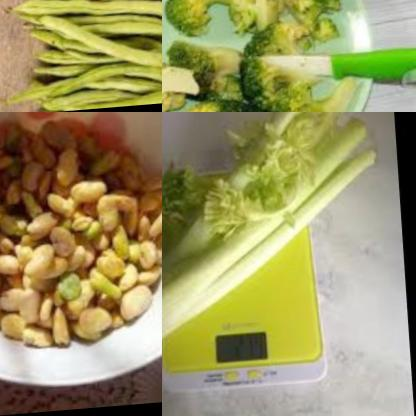beans: (0, 112, 162, 364), (0, 0, 162, 112)
broccoli: (162, 33, 246, 112), (162, 0, 249, 49), (270, 0, 347, 55), (275, 73, 361, 112), (167, 93, 305, 112), (236, 0, 291, 36)
celery: (162, 112, 385, 360)
